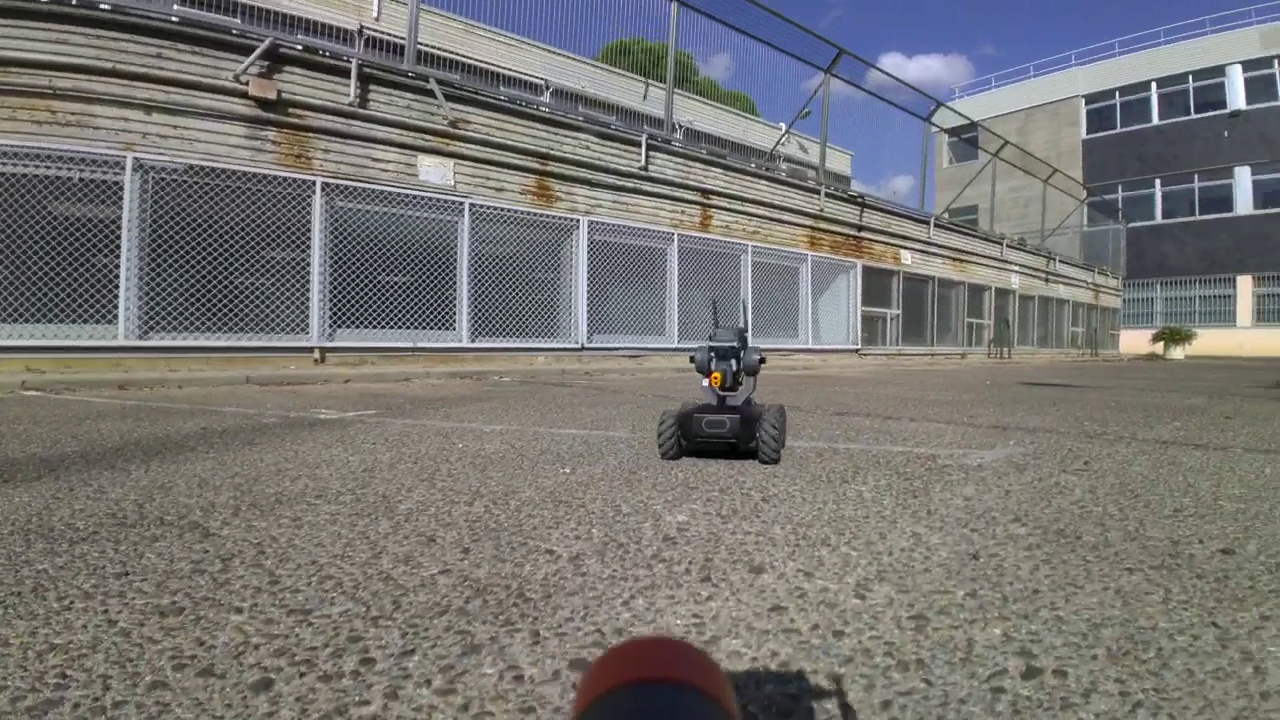robot: (656, 297, 789, 465)
